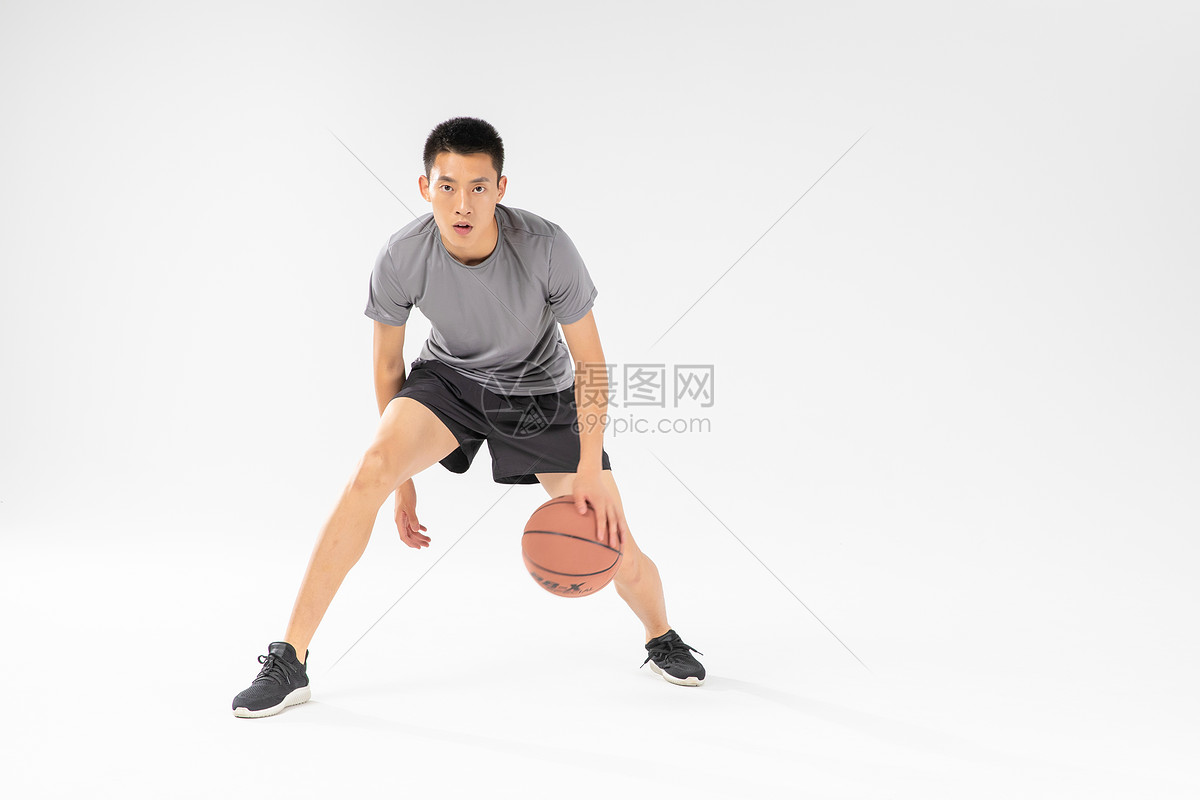ball: (521, 495, 622, 600)
